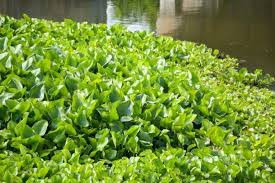water_hyacinth: (0, 81, 197, 156)
